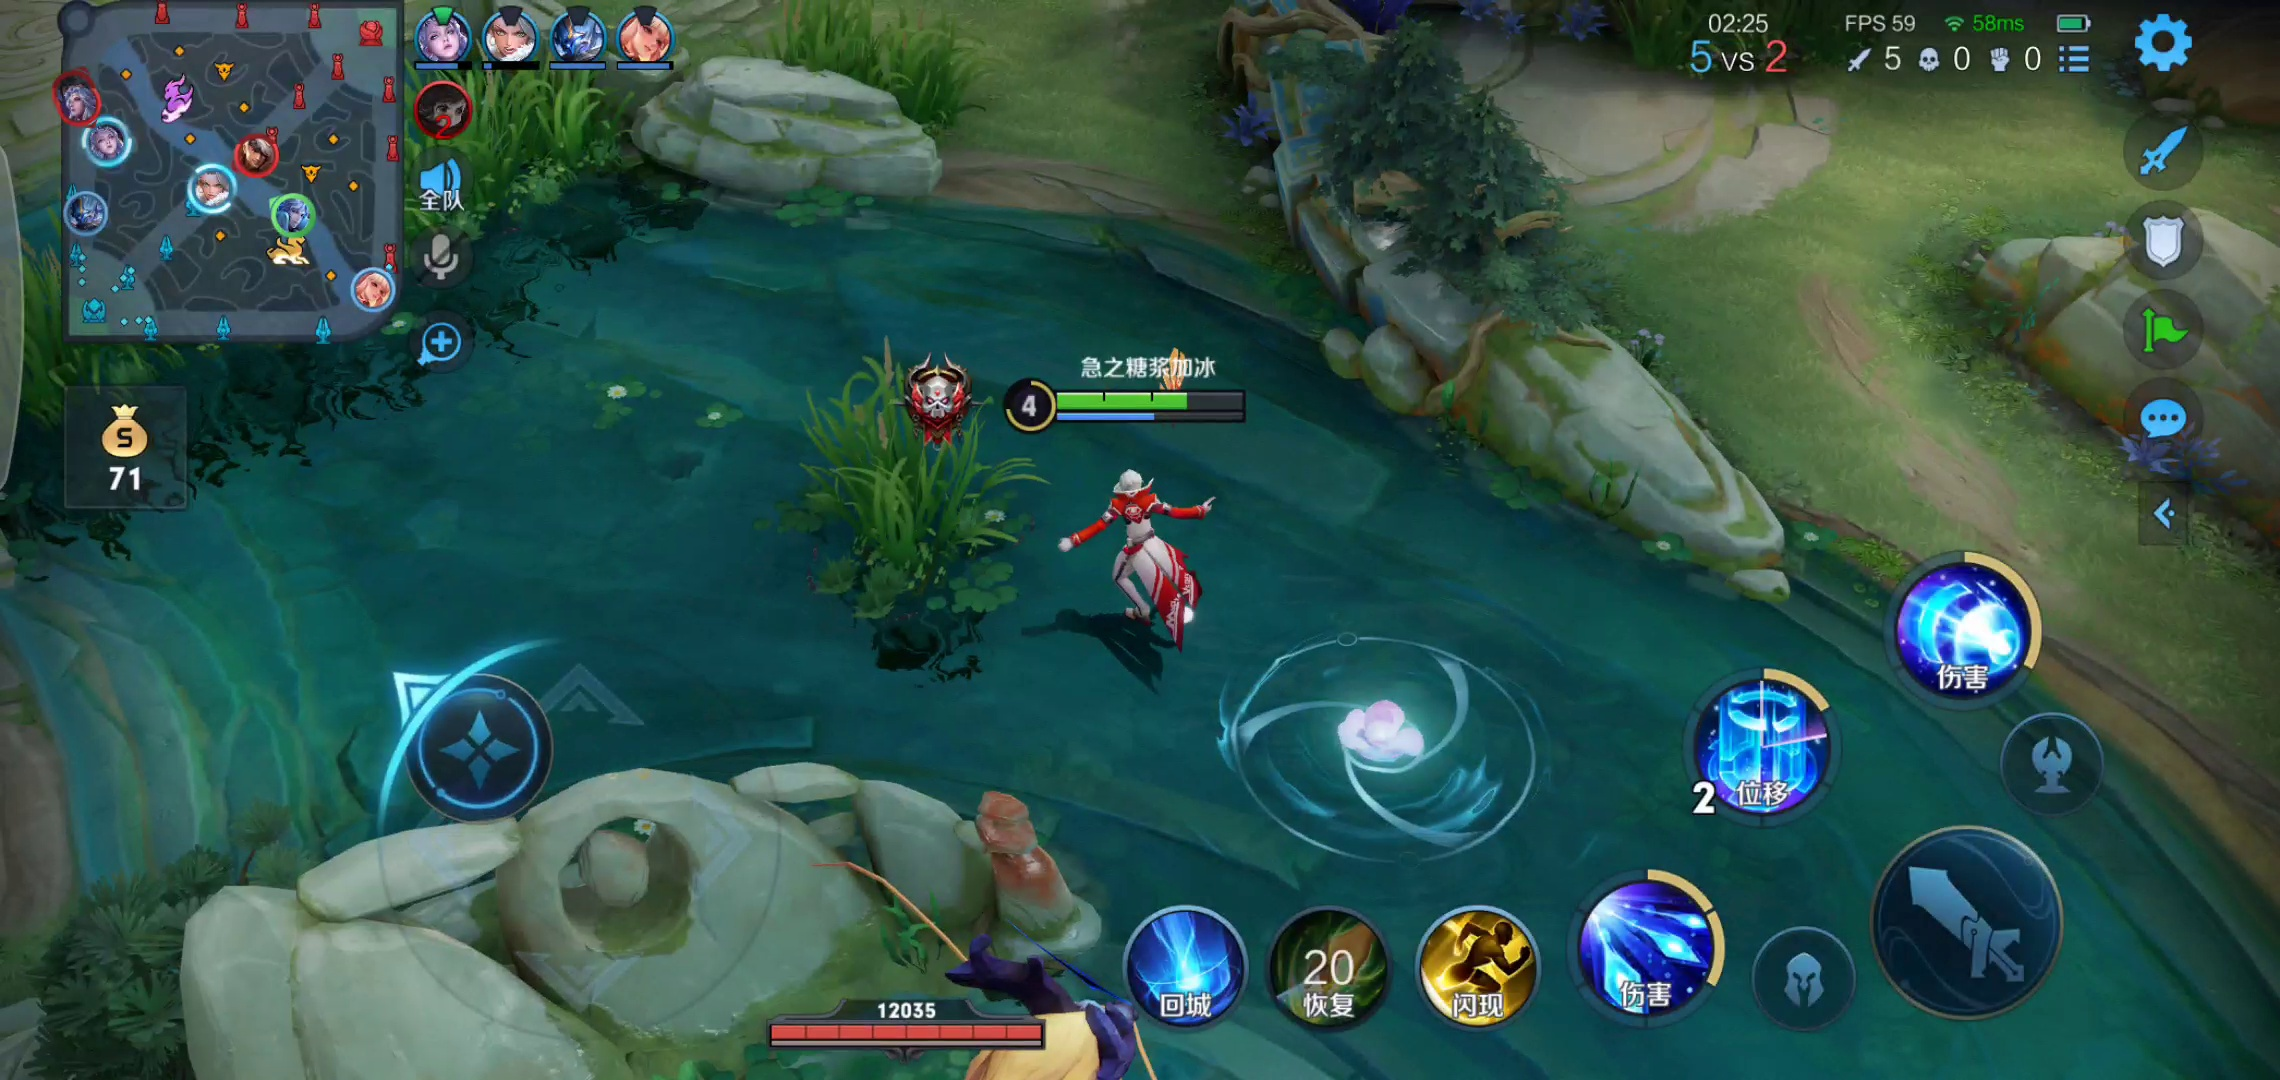dragon: (787, 954, 1146, 1080)
grass: (7, 28, 662, 449), (797, 365, 1018, 602), (731, 6, 995, 151)
hero: (1064, 478, 1251, 648)
